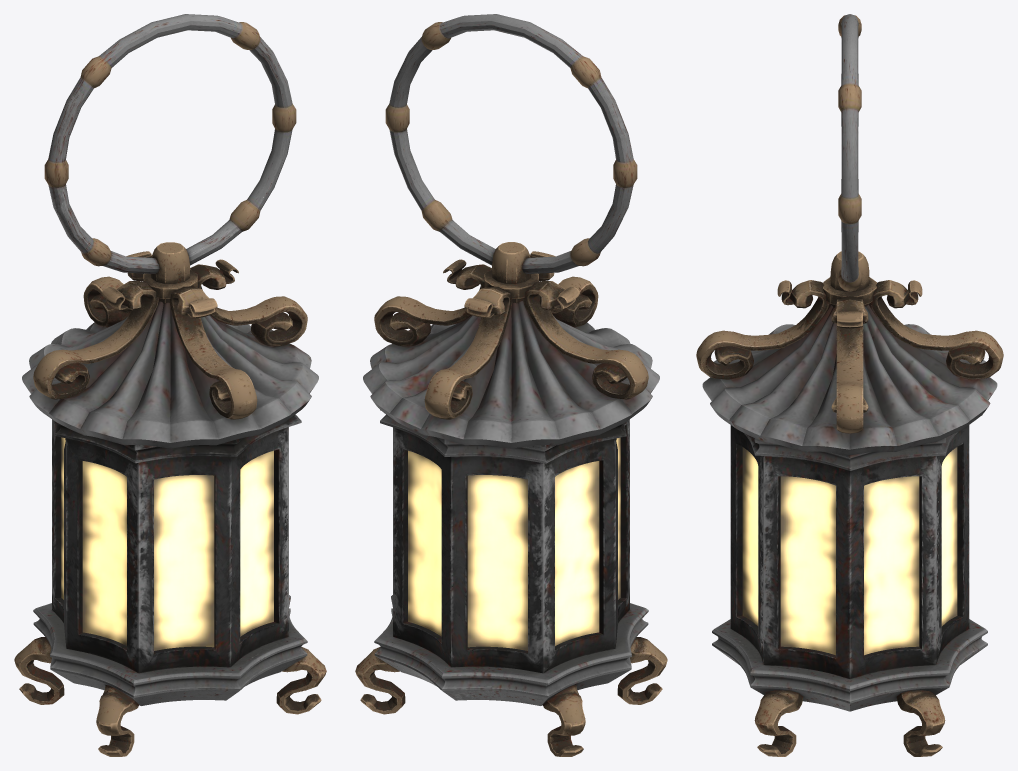
Rendered from lantern.glb.
The picture shows the model from 3 angles, left to right: view 1: azimuth 30°, elevation 25°; view 2: azimuth 150°, elevation 25°; view 3: azimuth 270°, elevation 25°; orthographic projection.
Parts seen in each view (by area): view 1: Cube.001; view 2: Cube.001; view 3: Cube.001.
Boxes of the visible parts, box(x1,y1,x2,y2) form: Cube.001: box(14, 14, 326, 756); Cube.001: box(355, 14, 667, 756); Cube.001: box(696, 14, 1003, 756).
Size of the model in its own units: 0.126 by 0.3088 by 0.126.
1 material, 1 textured.
